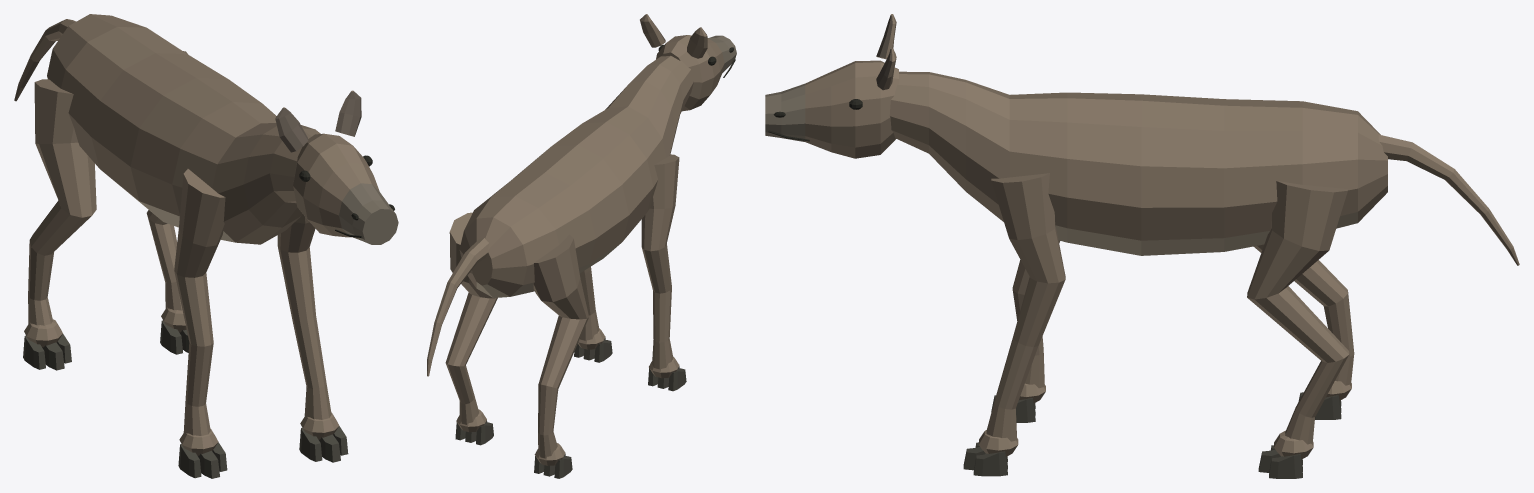
3 renders of one model, left to right at view 1: azimuth 30°, elevation 25°; view 2: azimuth 150°, elevation 25°; view 3: azimuth 270°, elevation 25°, orthographic. The views are drawn at different scales.
Parts seen in each view (by area): view 1: torso_neck, hindlimb_left, forelimb_left, deep_cheek_and_muzzle, forelimb_right, hindlimb_right, tapering_tail, ear_left, ear_right, foot_pad_hind_left, foot_pad_fore_right, foot_pad_fore_left (+8 smaller); view 2: torso_neck, hindlimb_left, forelimb_left, hindlimb_right, deep_cheek_and_muzzle, tapering_tail, forelimb_right, ear_left, ear_right; view 3: torso_neck, hindlimb_right, forelimb_right, deep_cheek_and_muzzle, hindlimb_left, tapering_tail, forelimb_left.
Part boxes in pixels (x1,y1,x2,y2): torso_neck: [47, 14, 320, 244]; hindlimb_left: [28, 79, 96, 325]; forelimb_left: [174, 169, 225, 435]; deep_cheek_and_muzzle: [293, 133, 398, 244]; forelimb_right: [277, 214, 331, 419]; hindlimb_right: [146, 51, 187, 310]; tapering_tail: [14, 19, 75, 101]; ear_left: [275, 107, 308, 152]; ear_right: [335, 90, 361, 136]; foot_pad_hind_left: [24, 319, 62, 347]; foot_pad_fore_right: [300, 412, 339, 439]; foot_pad_fore_left: [179, 428, 218, 455]; torso_neck: [459, 55, 694, 297]; hindlimb_left: [533, 234, 588, 458]; forelimb_left: [641, 154, 679, 369]; hindlimb_right: [445, 212, 497, 424]; deep_cheek_and_muzzle: [656, 35, 736, 111]; tapering_tail: [427, 238, 489, 376]; forelimb_right: [579, 266, 599, 340]; ear_left: [687, 27, 707, 58]; ear_right: [640, 14, 665, 47]; torso_neck: [889, 71, 1387, 255]; hindlimb_right: [1247, 181, 1349, 444]; forelimb_right: [986, 173, 1065, 441]; deep_cheek_and_muzzle: [765, 60, 898, 158]; hindlimb_left: [1253, 244, 1354, 385]; tapering_tail: [1378, 134, 1519, 265]; forelimb_left: [1012, 240, 1059, 388].
Size of the model in its own units: 0.4007 by 0.9785 by 1.64.
